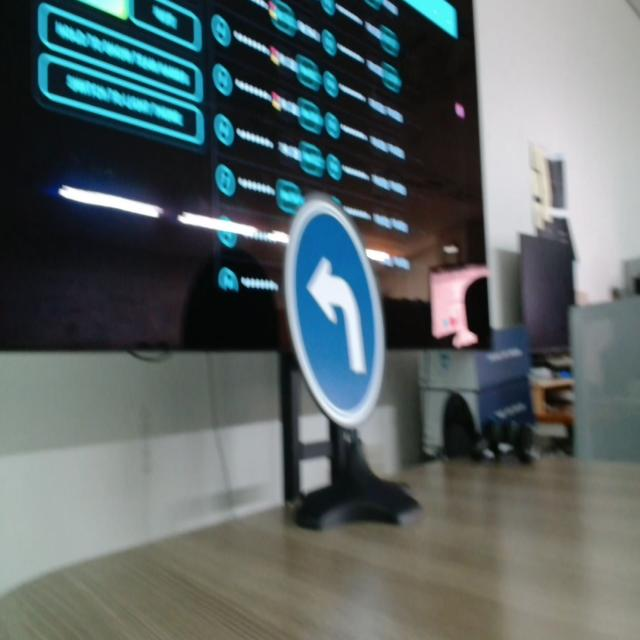left_direction: (276, 176, 392, 440)
